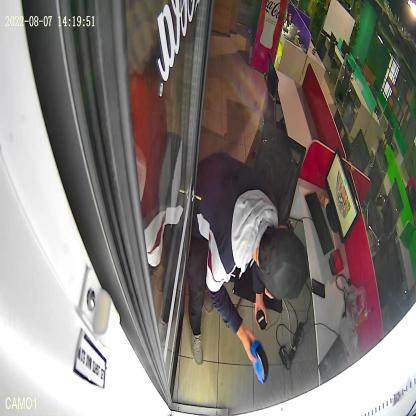blue: (250, 340, 268, 384)
